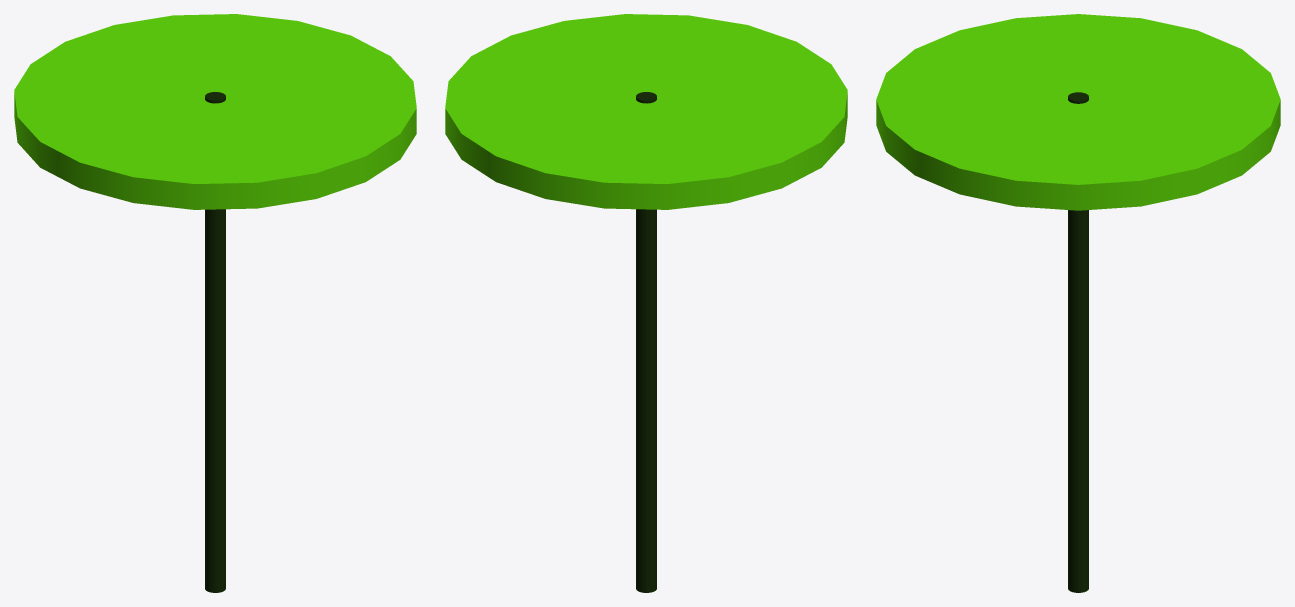
Rendered from ENV_Leaf_01_MESH.fbx.
3 views of the same model, side by side, from view 1: azimuth 30°, elevation 25°; view 2: azimuth 150°, elevation 25°; view 3: azimuth 270°, elevation 25° (orthographic).
Parts seen in each view (by area): view 1: ENV_PLT_Leaf_01_MESH; view 2: ENV_PLT_Leaf_01_MESH; view 3: ENV_PLT_Leaf_01_MESH.
Part boxes in pixels (<box>): ENV_PLT_Leaf_01_MESH: <box>14,14,416,592</box>; ENV_PLT_Leaf_01_MESH: <box>445,14,847,592</box>; ENV_PLT_Leaf_01_MESH: <box>876,14,1280,592</box>.
Size of the model in its own units: 2 by 2.68 by 2.
